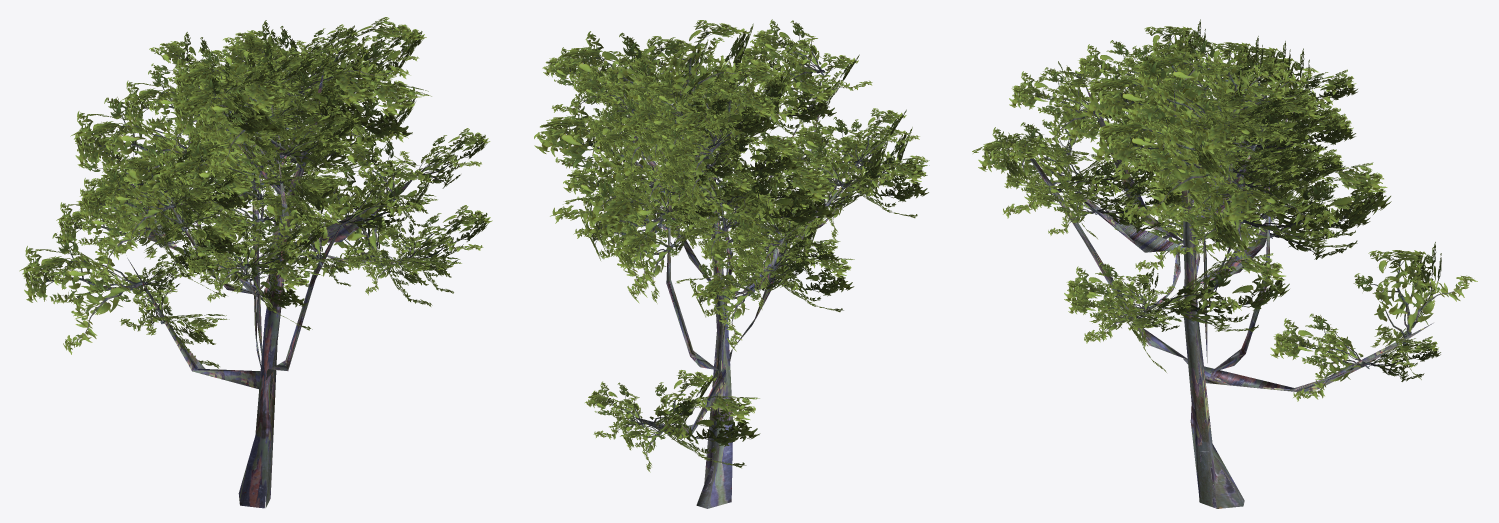
Rendered from LowPolyTree9_3.fbx.
3 views of the same model, side by side, from view 1: azimuth 30°, elevation 25°; view 2: azimuth 150°, elevation 25°; view 3: azimuth 270°, elevation 25° (orthographic). The views are drawn at different scales.
Parts seen in each view (by area): view 1: Tree9_3; view 2: Tree9_3; view 3: Tree9_3.
Boxes of the visible parts, bbox=[...] form: Tree9_3: bbox=[19, 17, 492, 508]; Tree9_3: bbox=[534, 19, 929, 508]; Tree9_3: bbox=[972, 19, 1477, 508].
Size of the model in its own units: 1839 by 2049 by 2093.
